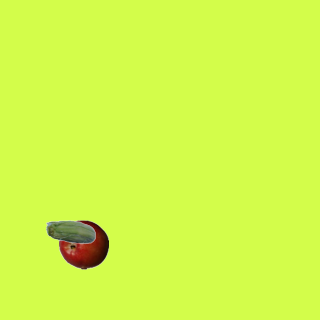Apple Braeburn: (58, 219, 108, 269)
Corn Husk: (45, 208, 95, 258)
